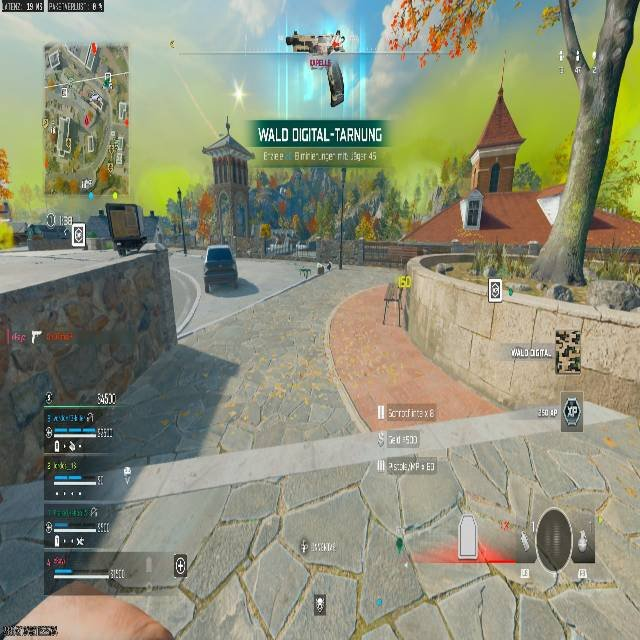player: (315, 32, 349, 105), (552, 326, 583, 375)
